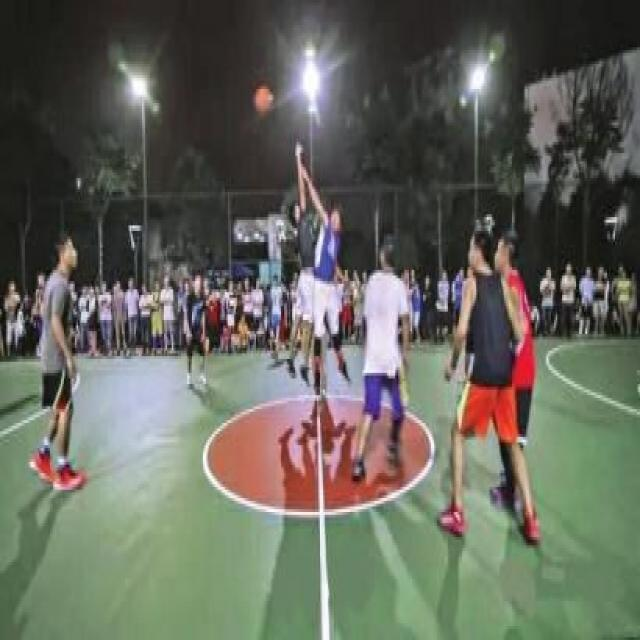rim: (256, 86, 270, 112)
